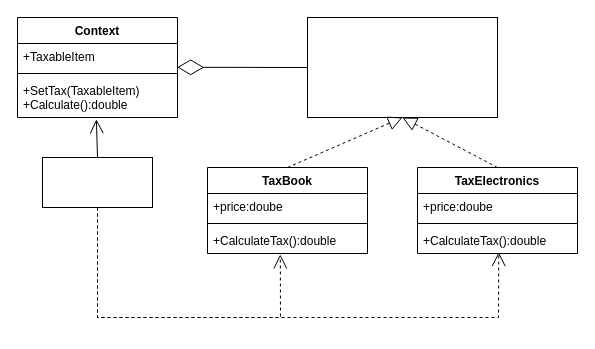
The diagram is 595 pixels wide and 349 high, and some of its shapes have lost their labels. Here are the shapes that lost their labels. From the top down, the centre of each, then its label:
the point at 402,67: <<Interface>> TaxableItem +CalculateTax():double
the point at 97,182: Client
